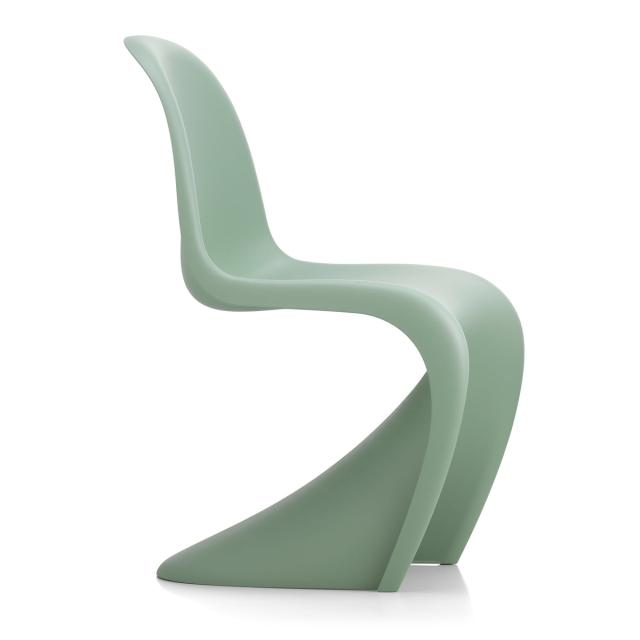chair: (88, 16, 564, 624)
